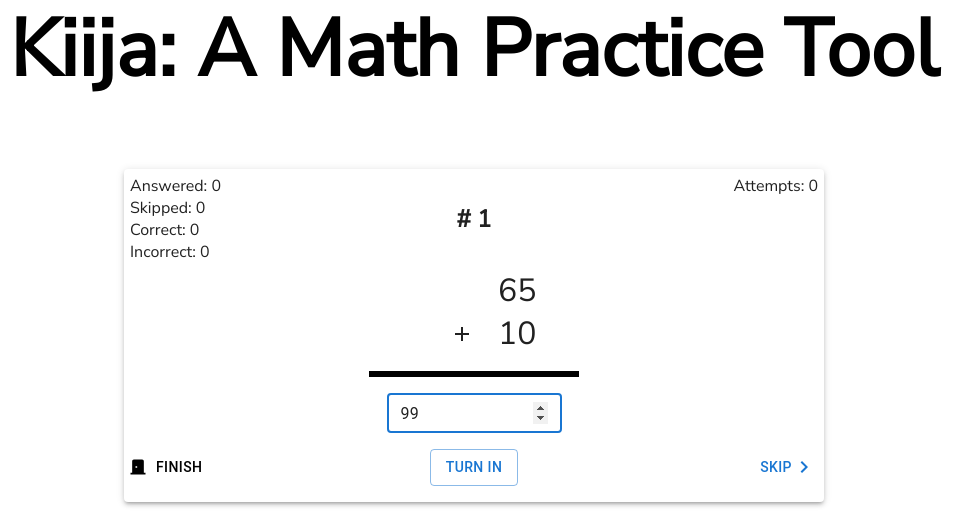
it: user gives an incorrect answer
Click the button "TURN IN": coordinates (474, 467) [430, 449, 518, 486]
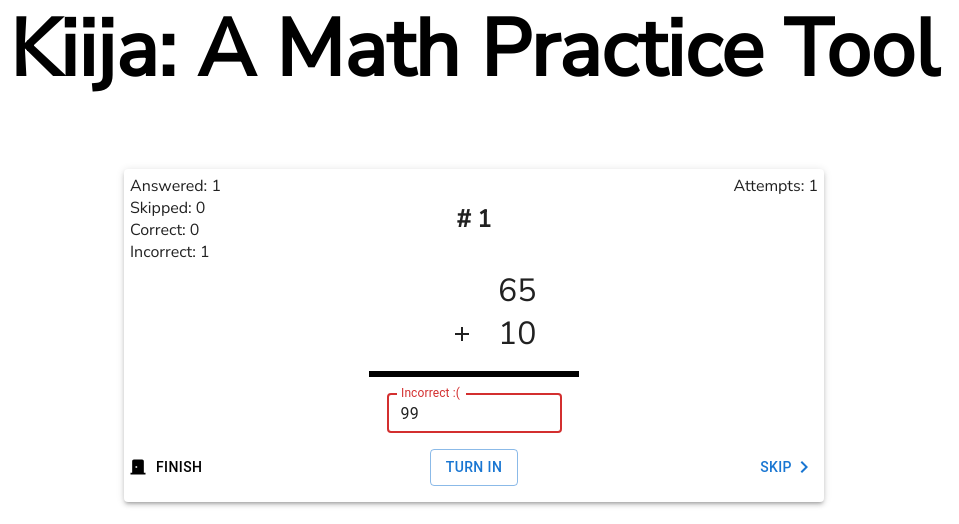
expect the number field labelled "Incorrect :(" is shown: met, box [386, 393, 562, 433]
expect the text "Incorrect: 1" is shown: met, box [130, 241, 210, 263]
